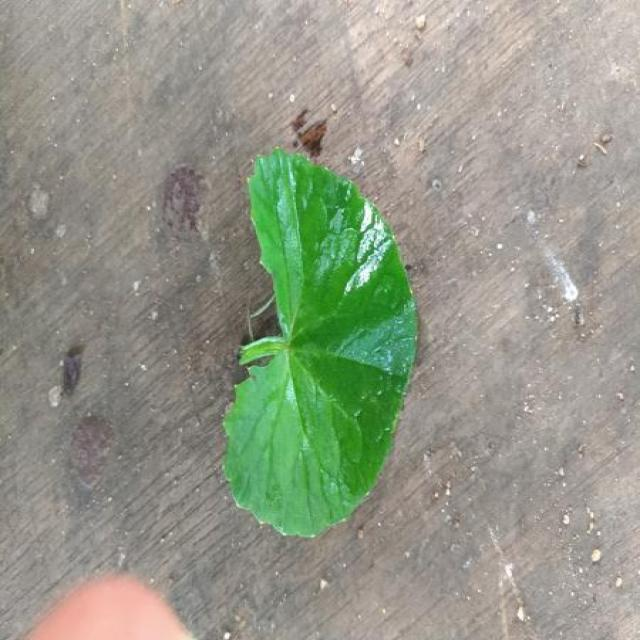bhrami: (223, 150, 417, 537)
